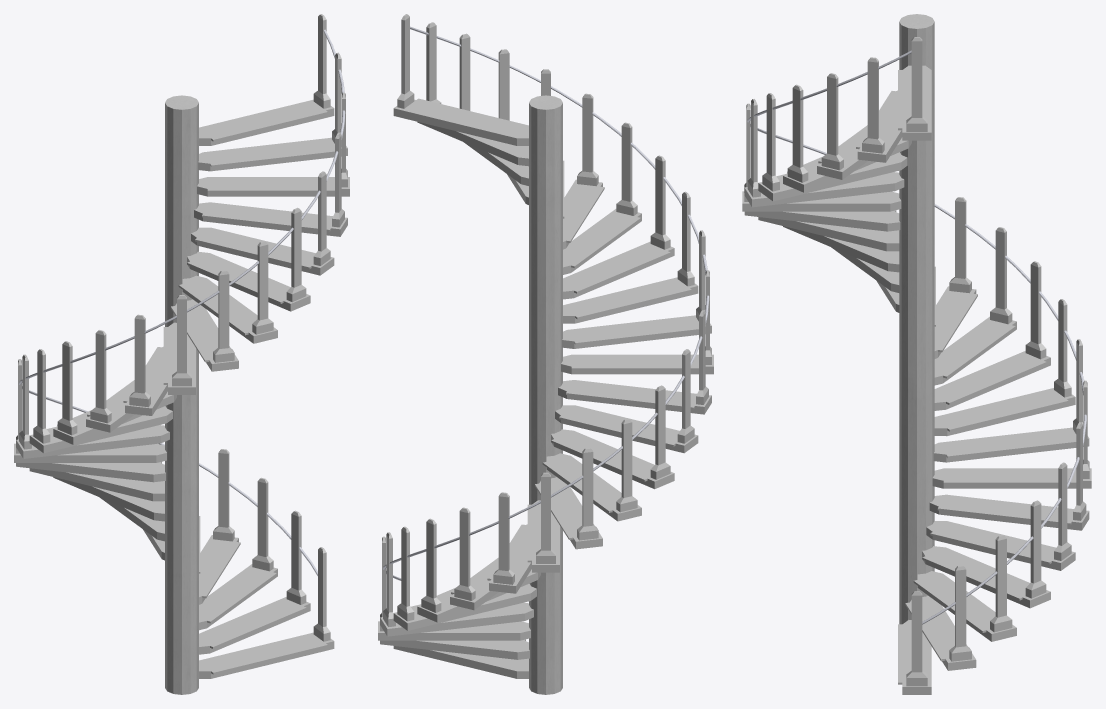
Rendered from SpiralStaircase.fbx.
3 renders of one model, left to right at view 1: azimuth 30°, elevation 25°; view 2: azimuth 150°, elevation 25°; view 3: azimuth 270°, elevation 25°, orthographic. The views are drawn at different scales.
Visible parts, largest first — view 1: SpiralStaircase; view 2: SpiralStaircase; view 3: SpiralStaircase.
Boxes of the visible parts, bbox=[...] form: SpiralStaircase: bbox=[14, 14, 349, 694]; SpiralStaircase: bbox=[378, 14, 713, 694]; SpiralStaircase: bbox=[742, 14, 1091, 694].
Bounding box in the file's own units: 6.85 × 14.37 × 6.85.
